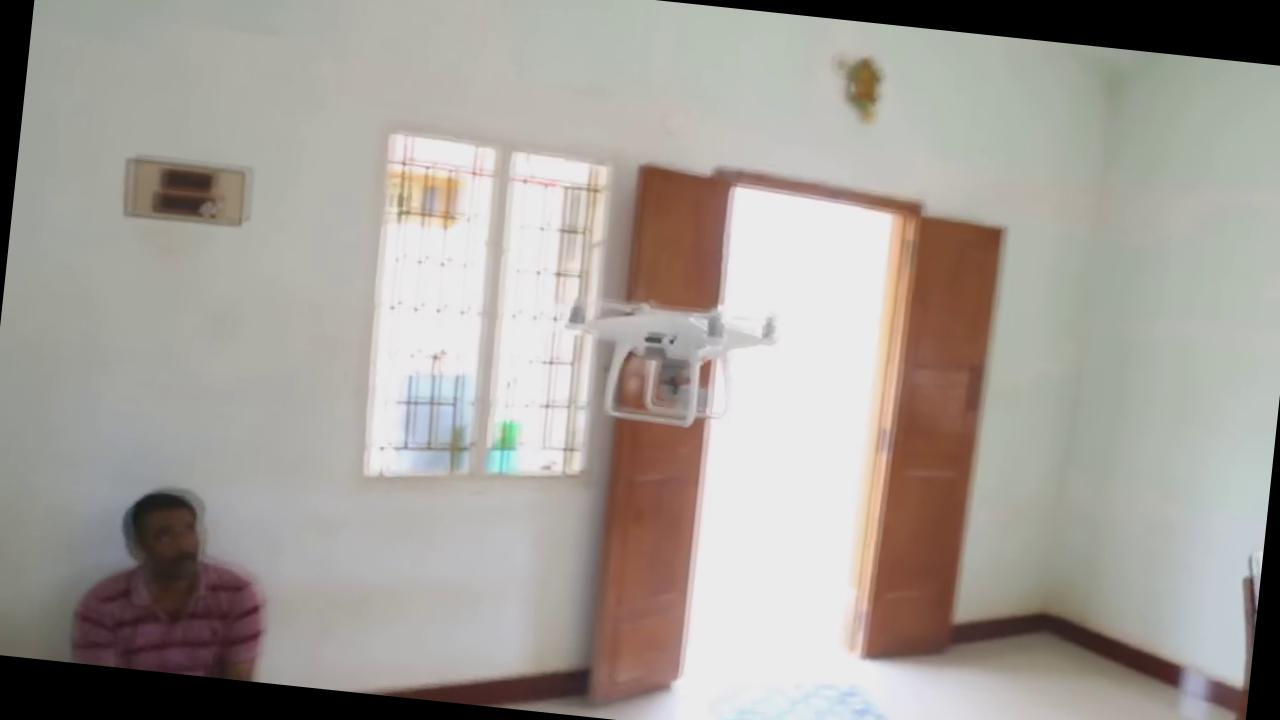drone: (536, 267, 794, 454)
